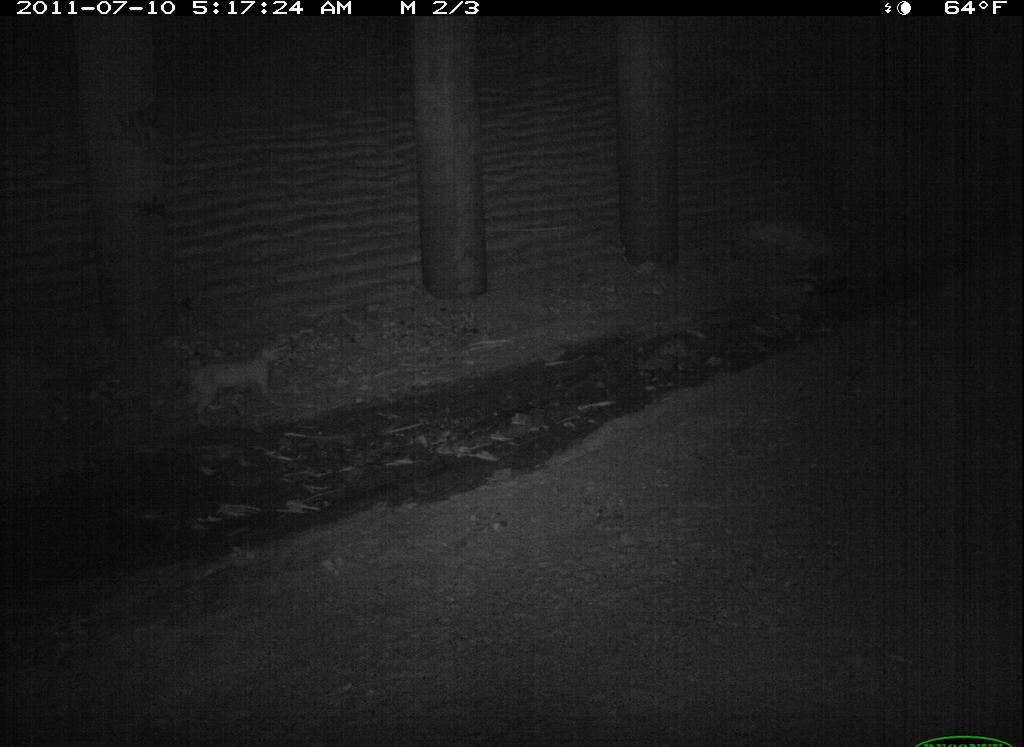bobcat: (364, 673, 574, 747)
